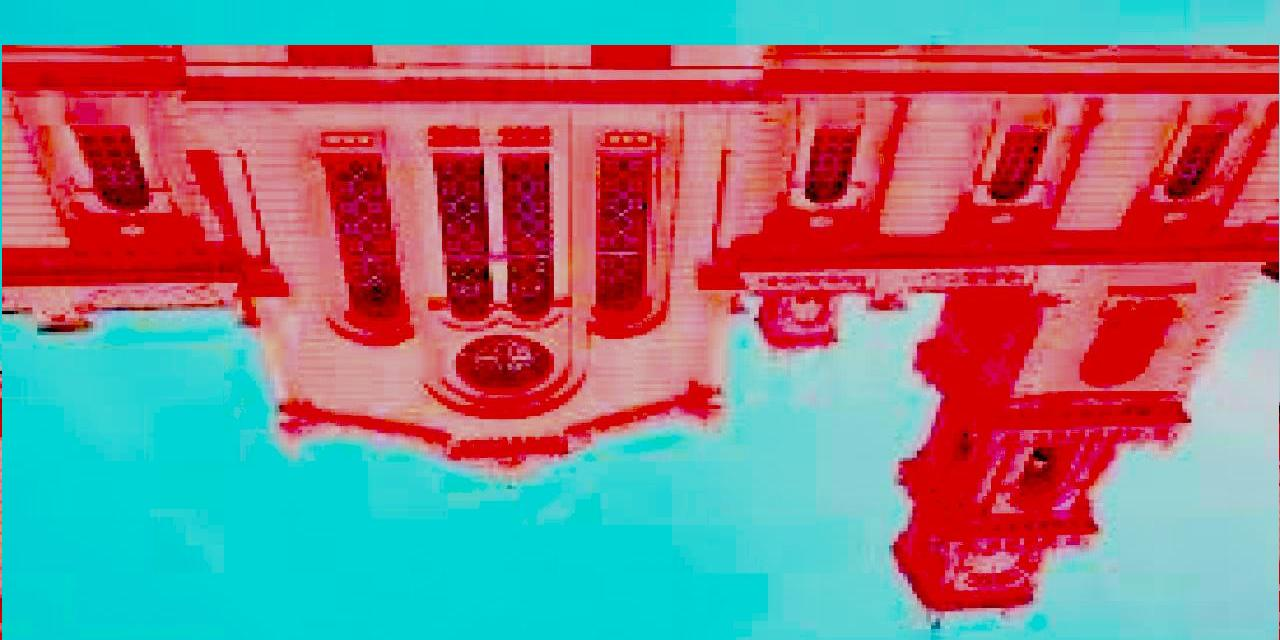Agios Minas: (3, 46, 1280, 640)
